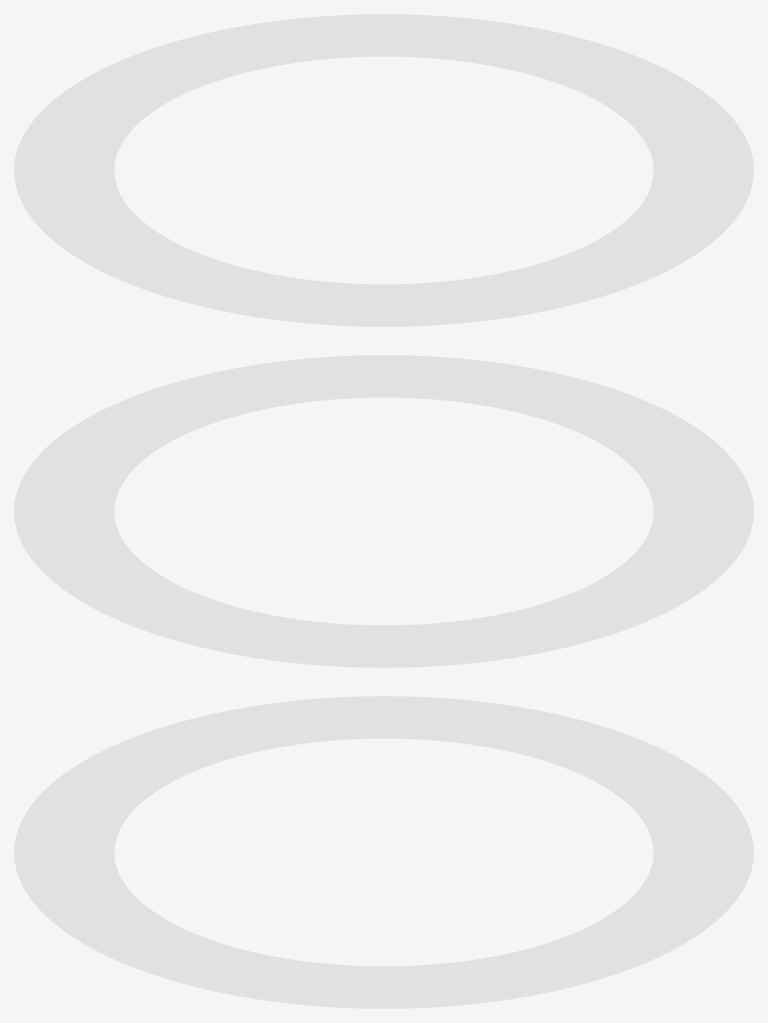
Rendered from Loc_02_planet_ring.fbx.
3 renders of one model, top to bottom at view 1: azimuth 30°, elevation 25°; view 2: azimuth 150°, elevation 25°; view 3: azimuth 270°, elevation 25°, orthographic.
Visible parts, largest first — view 1: Loc_02_planet_ring; view 2: Loc_02_planet_ring; view 3: Loc_02_planet_ring.
Part boxes in pixels (<box>): Loc_02_planet_ring: <box>14,14,753,326</box>; Loc_02_planet_ring: <box>14,355,753,667</box>; Loc_02_planet_ring: <box>14,696,753,1008</box>.
Size of the model in its own units: 580 by 0 by 580.
